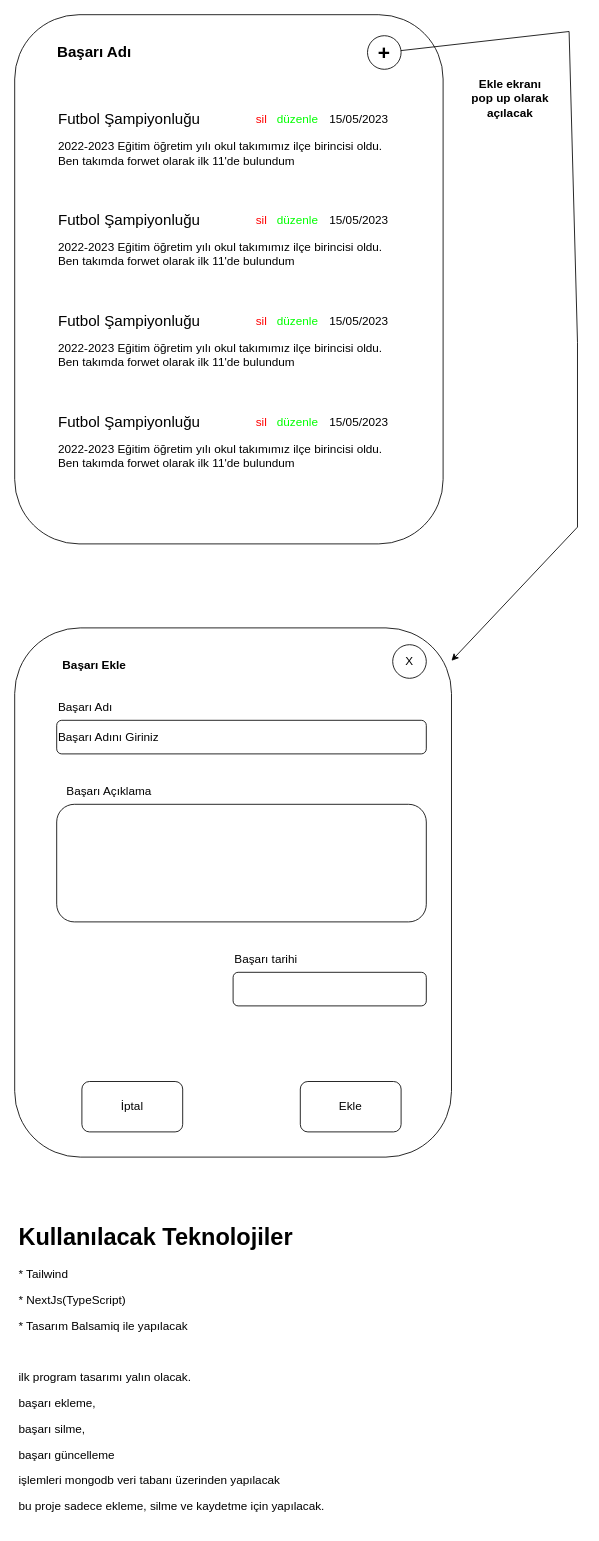
This 599x1541 diagram has some shape labels left out. The shapes that lost their labels are listed below. From the top down, each one's box as (x1, y1, x2, y2) in pixels, then its label:
(56, 803, 426, 922): Başarı Açıklamasını girniz.
(232, 971, 426, 1006): Başarı tarihini giriniz.
